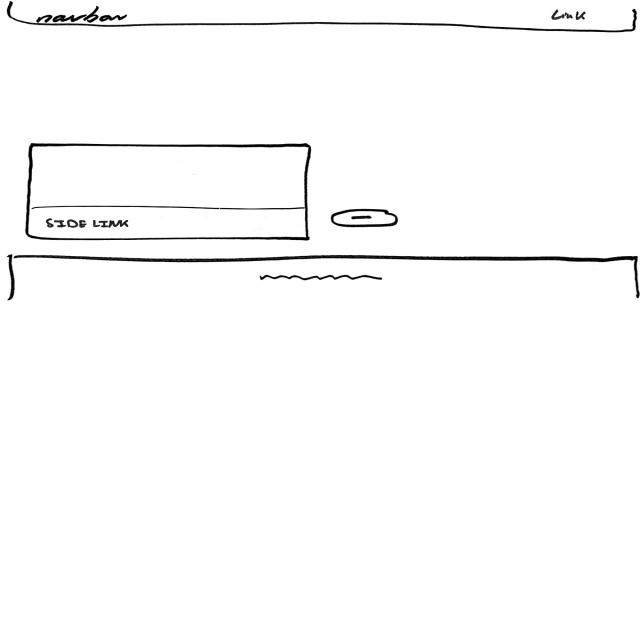container: (26, 143, 312, 245), (7, 1, 640, 34)
icon-button: (329, 208, 400, 230)
label: (34, 9, 130, 24), (44, 219, 134, 230), (552, 10, 590, 23)
text: (253, 274, 386, 284)
